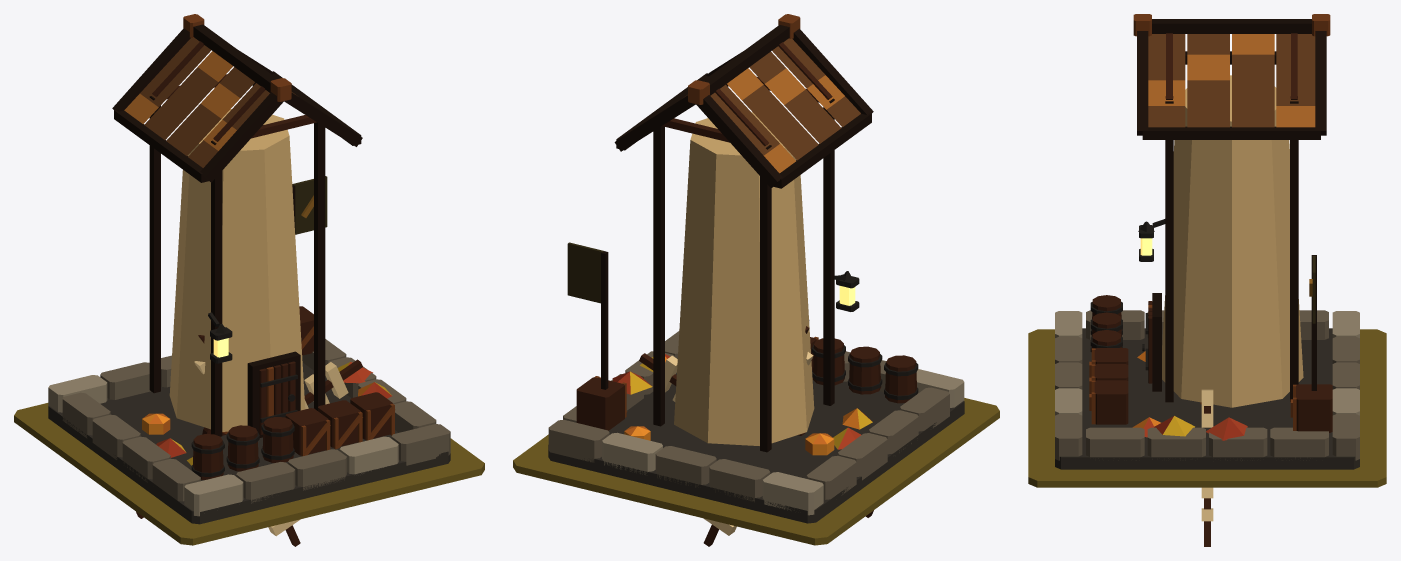
The model's file is mill_t6.glb.
3 views of the same model, side by side, from view 1: azimuth 30°, elevation 25°; view 2: azimuth 150°, elevation 25°; view 3: azimuth 270°, elevation 25° (orthographic). The views are drawn at different scales.
Visible parts, largest first — view 1: MMR | mill | T06 Architecture.001, MMR | mill | Tier 06 Ground.001, MMR | mill | T06 Wind Rotor.001, MMR | mill | T06 Autumn Dressing.001; view 2: MMR | mill | T06 Architecture.001, MMR | mill | Tier 06 Ground.001, MMR | mill | T06 Autumn Dressing.001, MMR | mill | T06 Wind Rotor.001; view 3: MMR | mill | T06 Architecture.001, MMR | mill | Tier 06 Ground.001, MMR | mill | T06 Autumn Dressing.001, MMR | mill | T06 Wind Rotor.001.
Part boxes in pixels (left/top/right/bottom): MMR | mill | T06 Architecture.001: left=48, top=14, right=450, bottom=524; MMR | mill | Tier 06 Ground.001: left=14, top=403, right=484, bottom=545; MMR | mill | T06 Wind Rotor.001: left=136, top=335, right=362, bottom=546; MMR | mill | T06 Autumn Dressing.001: left=142, top=361, right=391, bottom=465; MMR | mill | T06 Architecture.001: left=548, top=14, right=964, bottom=523; MMR | mill | Tier 06 Ground.001: left=513, top=398, right=999, bottom=545; MMR | mill | T06 Autumn Dressing.001: left=612, top=354, right=872, bottom=455; MMR | mill | T06 Wind Rotor.001: left=639, top=326, right=873, bottom=546; MMR | mill | T06 Architecture.001: left=1055, top=14, right=1359, bottom=469; MMR | mill | Tier 06 Ground.001: left=1028, top=329, right=1386, bottom=487; MMR | mill | T06 Autumn Dressing.001: left=1132, top=351, right=1247, bottom=440; MMR | mill | T06 Wind Rotor.001: left=1201, top=389, right=1213, bottom=546.
Size of the model in its own units: 2.35 by 3.67 by 2.35.
2 materials, 1 textured.
